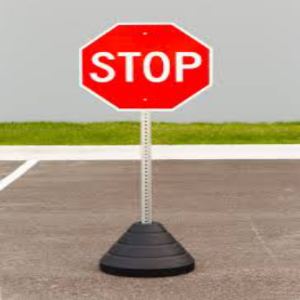STOP_SIGN: (79, 22, 213, 112)
